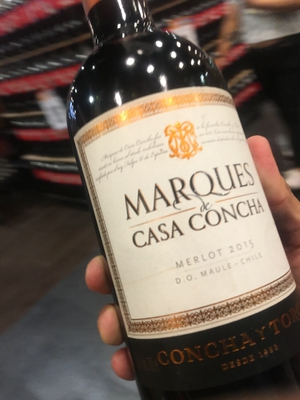marques de casa concha merlot: (55, 2, 300, 375)
